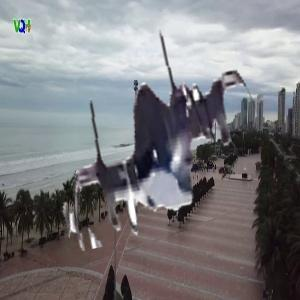drone: (45, 11, 269, 235)
